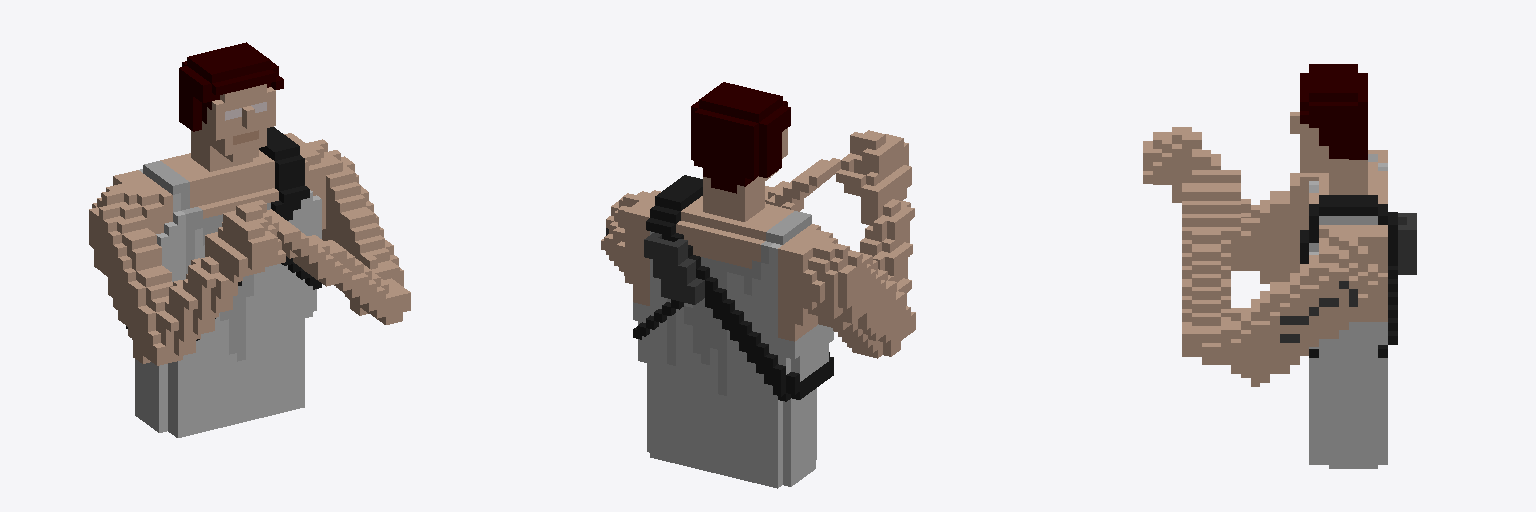
3 views of the same model, side by side, from view 1: azimuth 30°, elevation 25°; view 2: azimuth 150°, elevation 25°; view 3: azimuth 270°, elevation 25° (orthographic).
Visible parts, largest first — view 1: torsoHold; view 2: torsoHold; view 3: torsoHold.
Part boxes in pixels (x1,y1,x2,y2): torsoHold: (89,42,410,437); torsoHold: (601,82,915,488); torsoHold: (1143,64,1416,468).
Bounding box in the file's own units: 2.9 × 4 × 2.8.
Materials: 1 (1 with a texture image).